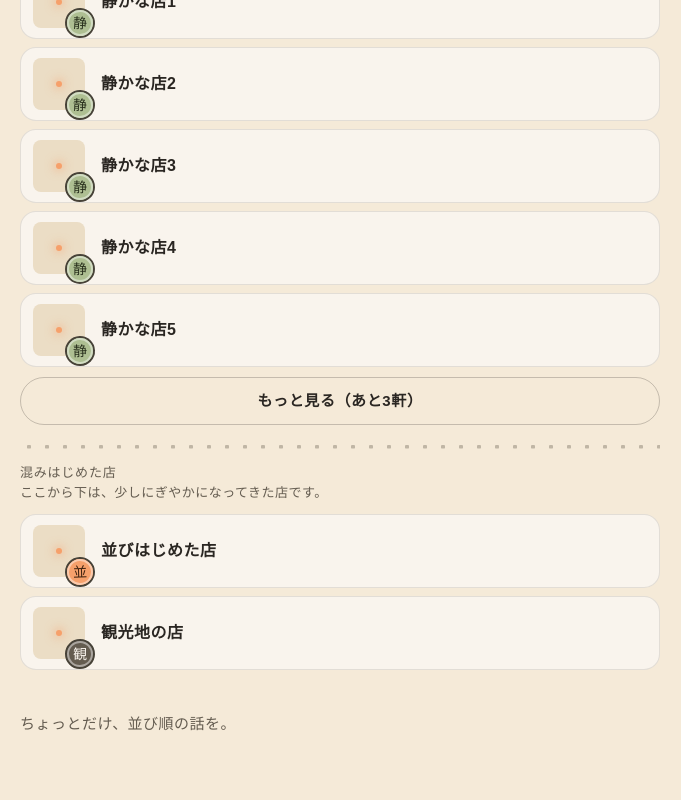
it: さがすの「もっと見る」 › 押すと残りの3軒が出て、増えた最初の行へフォーカスが移り、増えた件数を読み上げる
(page scrolled)
Step 1. Click the button "もっと見る（あと3軒）" → (340, 401), box [20, 377, 660, 425]
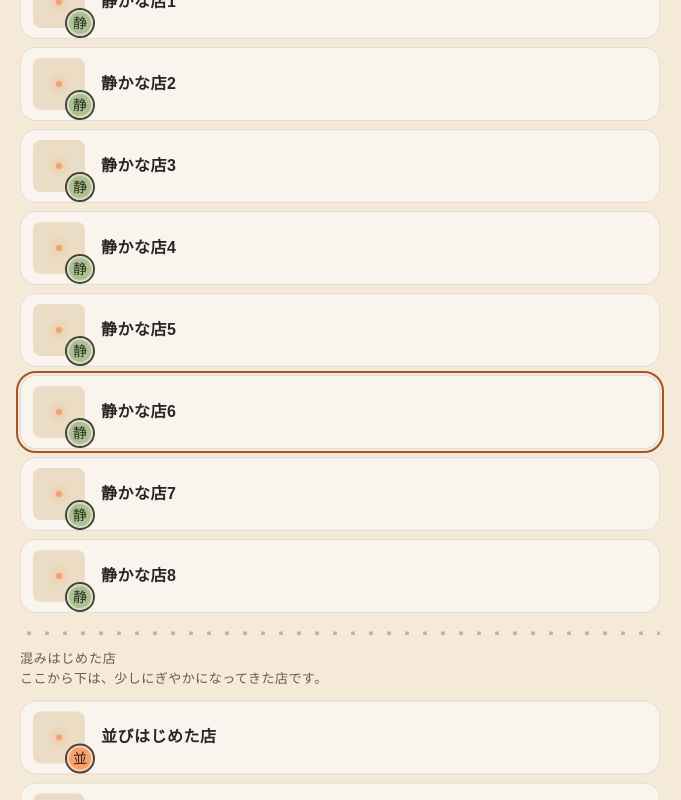
Expected: the number of links "静 静かな店1" is 8
Expected: the button "もっと見る" is gone
